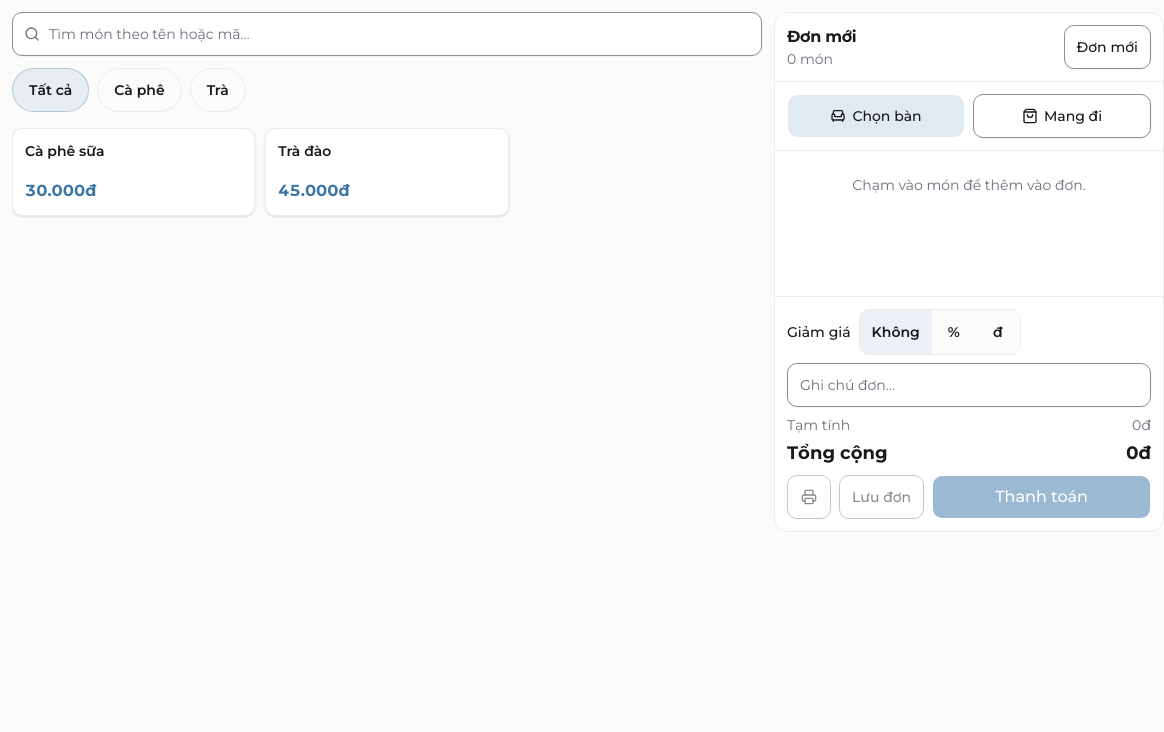
it: PosSell › Lưu đơn gửi payload chỉ có id/số lượng (không giá/tổng) và nạp lại số liệu BE
Click the button "Cà phê sữa 30.000đ": (134, 172) [12,128,255,216]
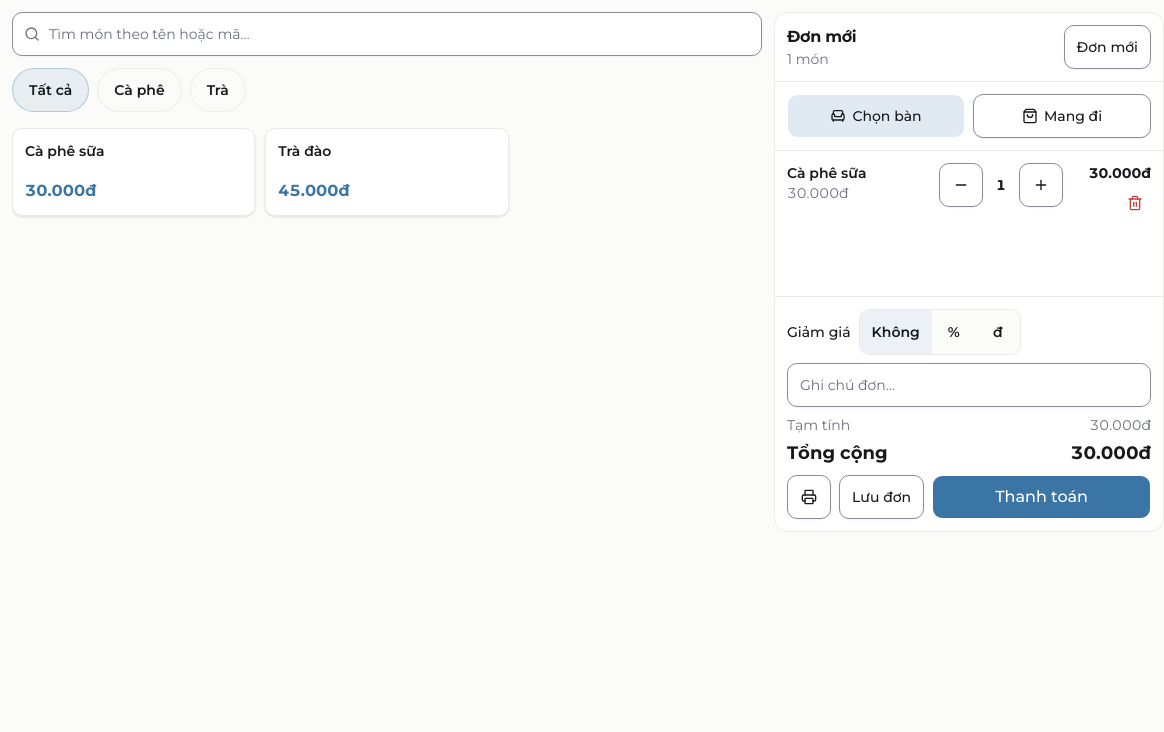
Click the button "Lưu đơn": (882, 497) [839,475,924,519]
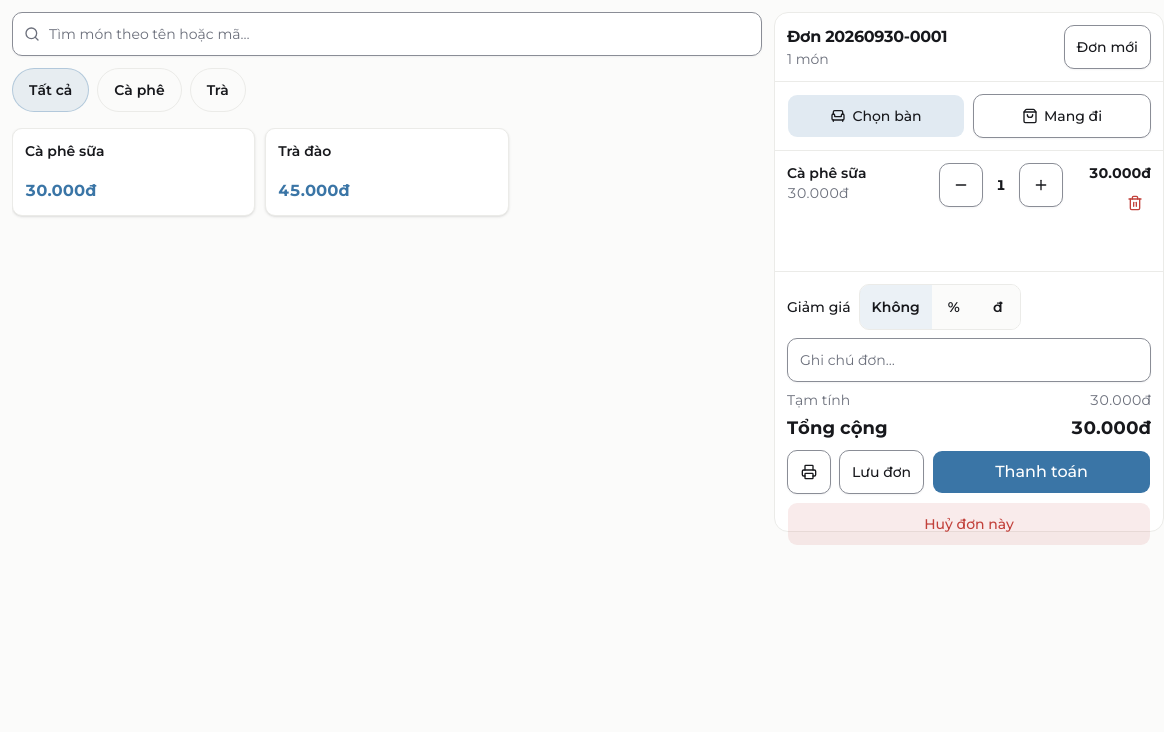
Result: the heading "Đơn 20260930-0001" is shown at [787,25,947,49]
